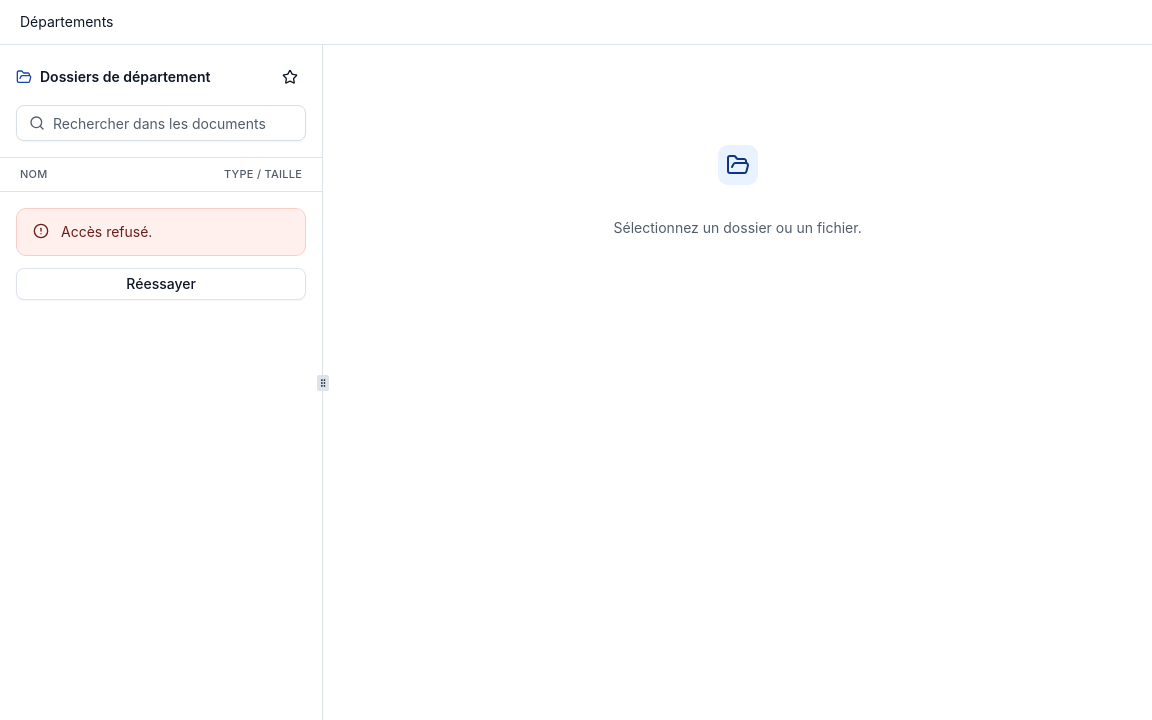
Test: FileWorkspace › permet de relancer le chargement après une erreur serveur
Check: the message reads "Accès refusé.", box left=61, top=222, right=152, bottom=240
Step 1. Click the button "Réessayer" → x=161, y=284, box left=16, top=268, right=306, bottom=300
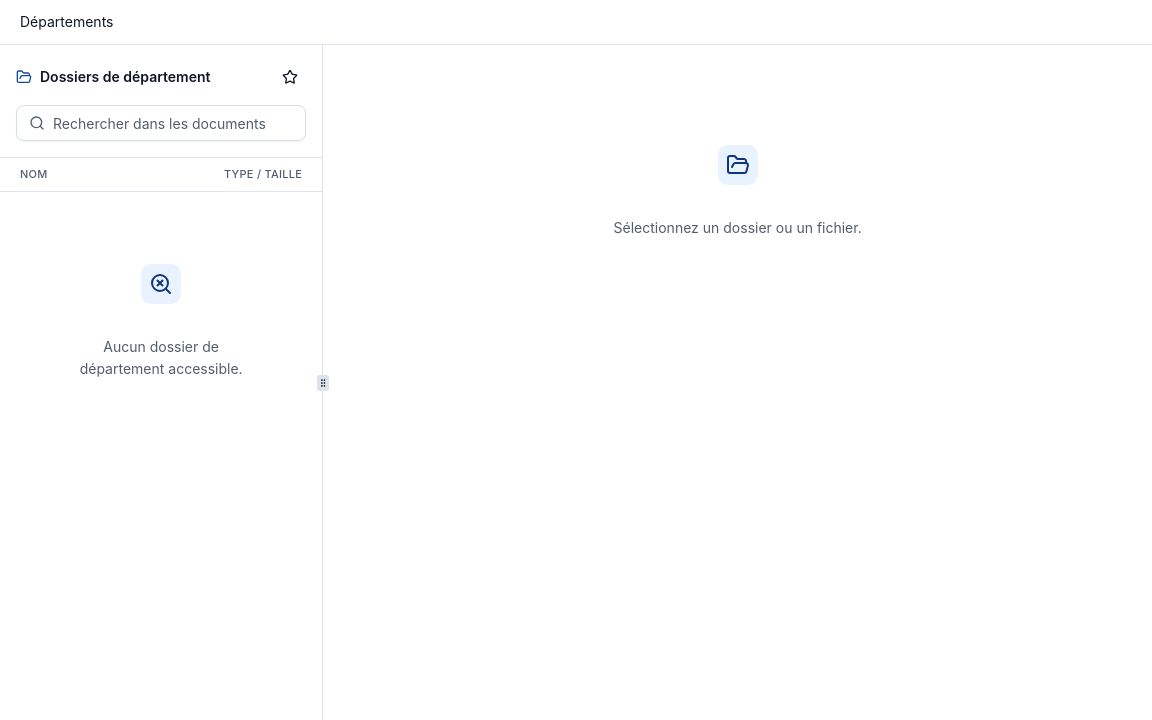
Check: the text "Aucun dossier de département accessible." is shown, box left=80, top=338, right=243, bottom=377
